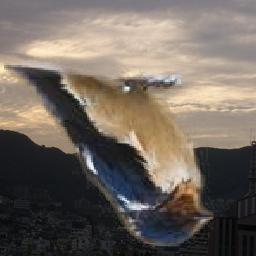Swallow: (4, 61, 214, 247)
